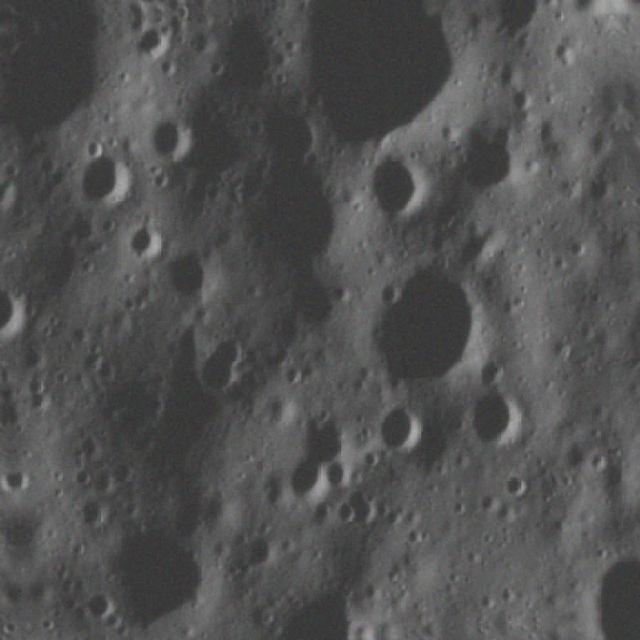crater: (274, 0, 475, 148), (0, 17, 132, 159), (358, 249, 488, 391), (98, 504, 231, 634), (246, 571, 380, 640), (230, 100, 336, 186), (275, 406, 360, 509), (446, 114, 531, 206), (199, 10, 286, 98), (180, 322, 257, 410), (356, 144, 438, 224), (60, 138, 148, 212), (454, 376, 532, 456), (156, 236, 221, 301), (367, 397, 430, 460), (586, 544, 640, 614), (141, 106, 202, 166), (474, 0, 549, 40), (126, 205, 169, 260)
